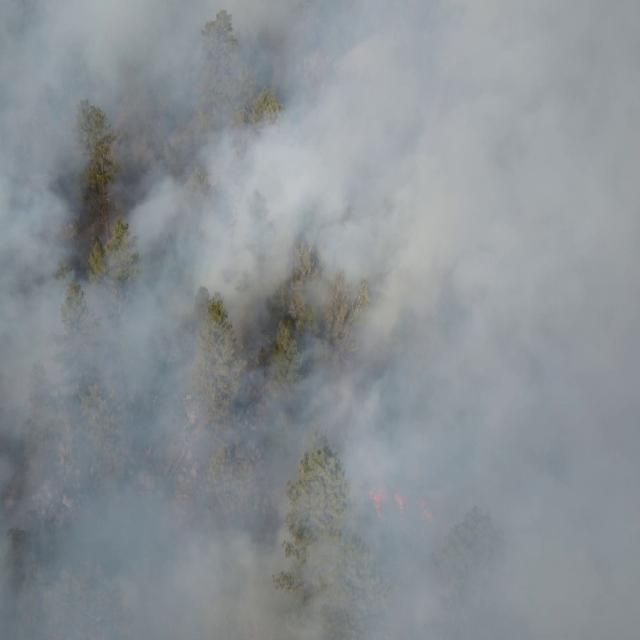fire: (414, 495, 438, 530), (367, 484, 389, 521), (391, 489, 410, 519)
smoke: (0, 0, 640, 640)
